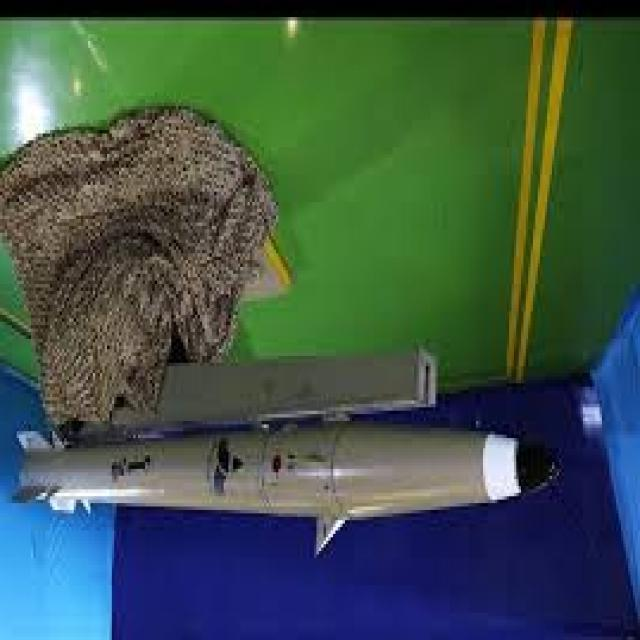Missile: (6, 415, 554, 532)
